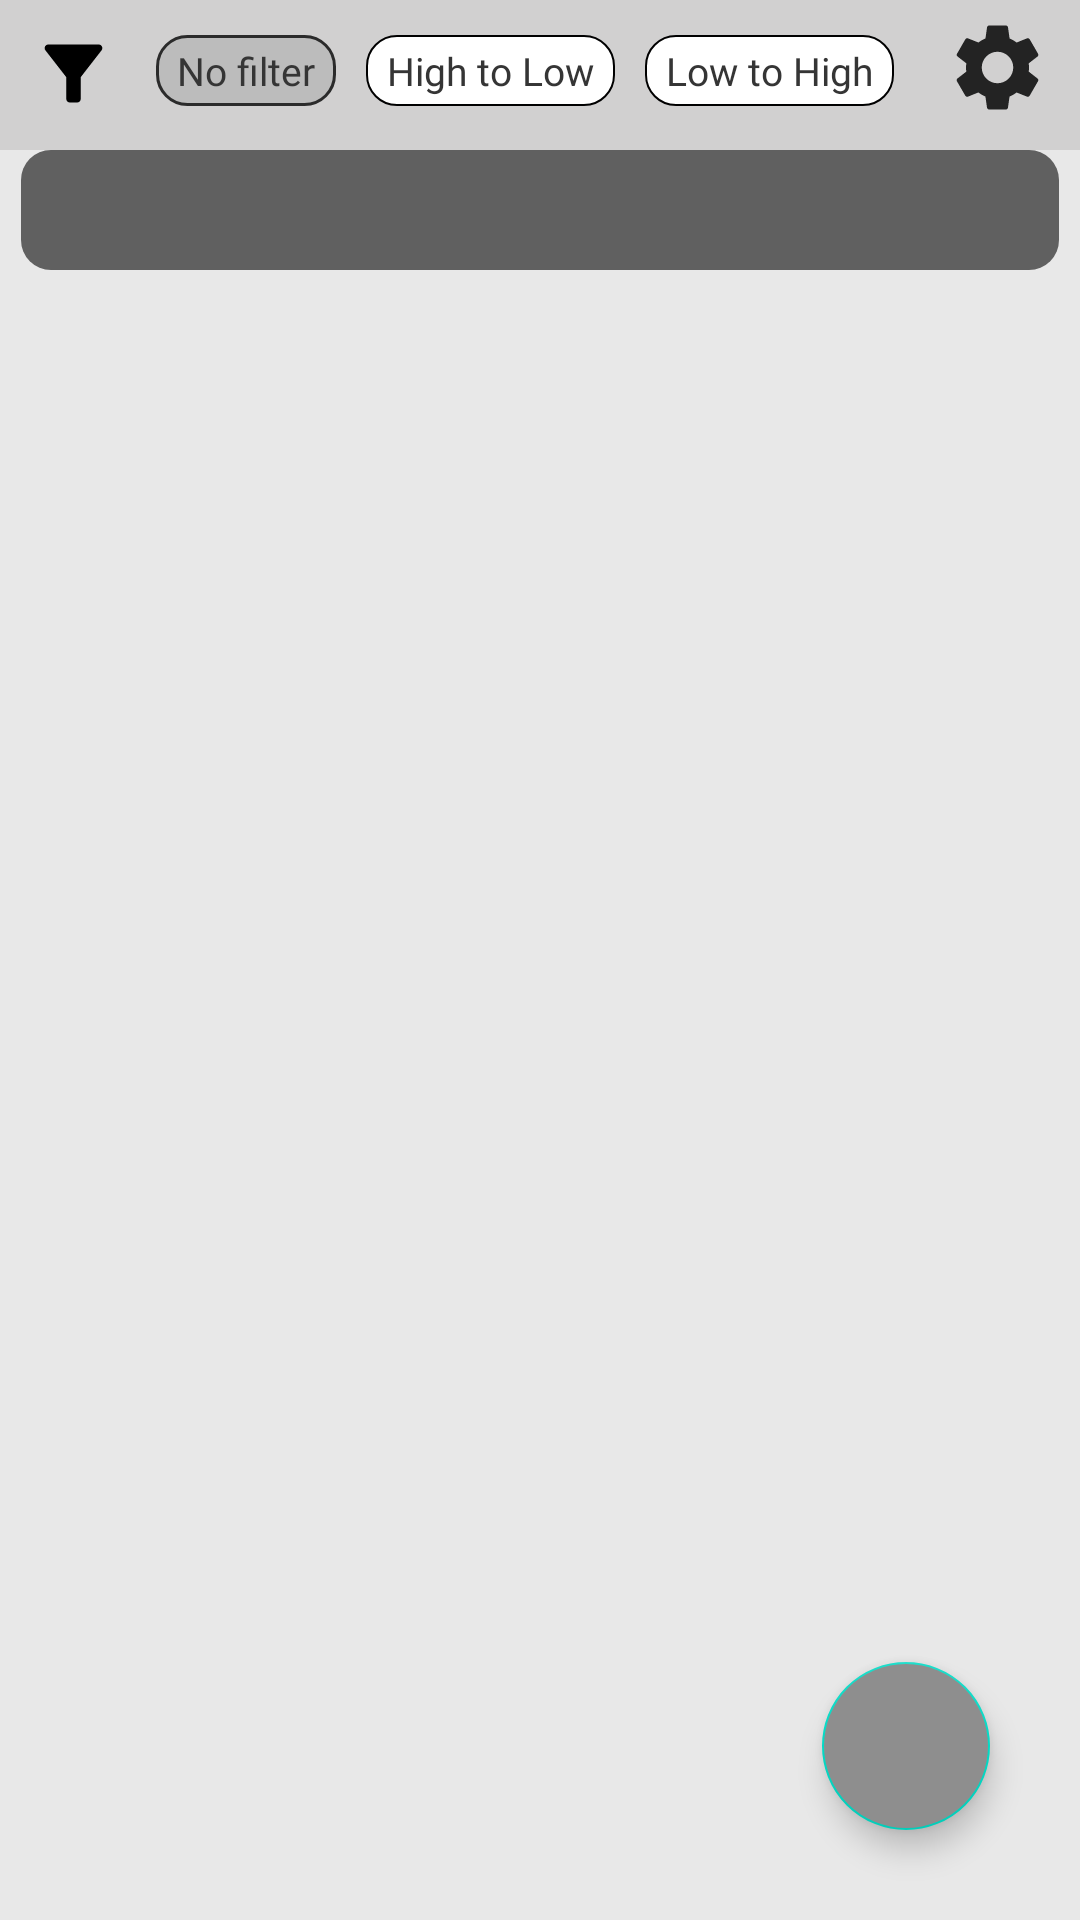

Icon click points for this 1080x1920 phone screenshot, format (x=x, y=y):
settings: (x=997, y=67)
